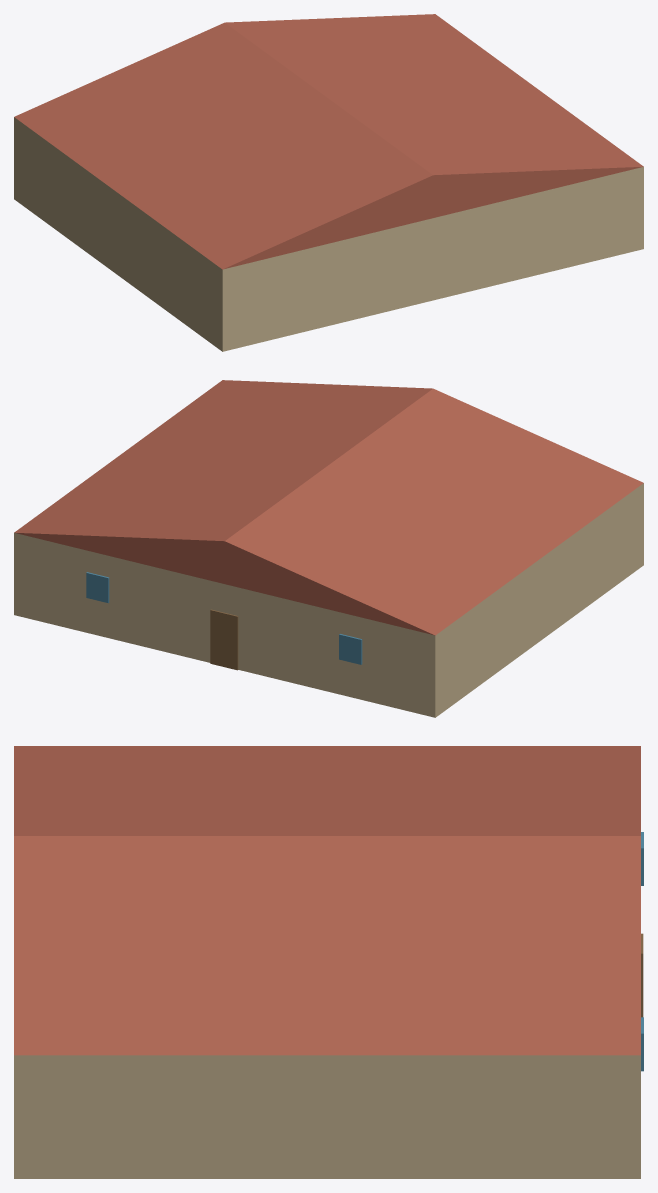
File: landmark_culture.glb
The picture shows the model from 3 angles, top to bottom: view 1: azimuth 30°, elevation 25°; view 2: azimuth 150°, elevation 25°; view 3: azimuth 270°, elevation 25°; orthographic projection. The views are drawn at different scales.
Size of the model in its own units: 12.32 by 3.5 by 10.61.
